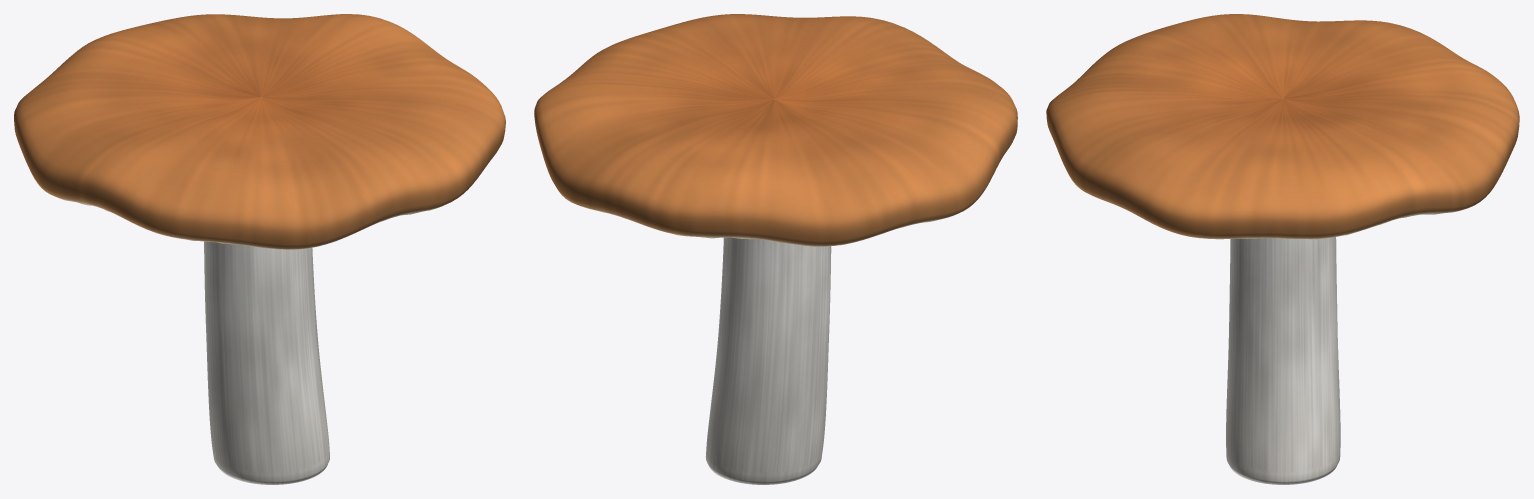
File: russula-decolorans-agg-drawn.glb
3 renders of one model, left to right at view 1: azimuth 30°, elevation 25°; view 2: azimuth 150°, elevation 25°; view 3: azimuth 270°, elevation 25°, orthographic. The views are drawn at different scales.
Size of the model in its own units: 0.8121 by 0.711 by 0.8277.
Materials: 1 (1 with a texture image).
